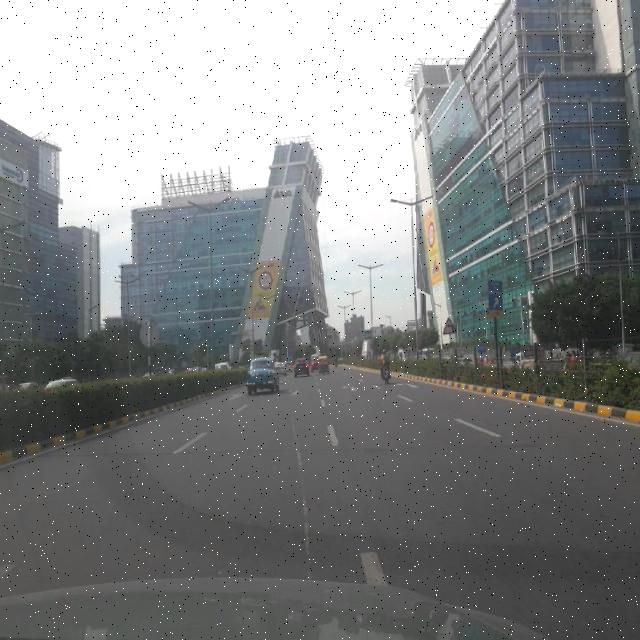D00: (286, 406, 316, 578)
D20: (24, 444, 625, 608)
